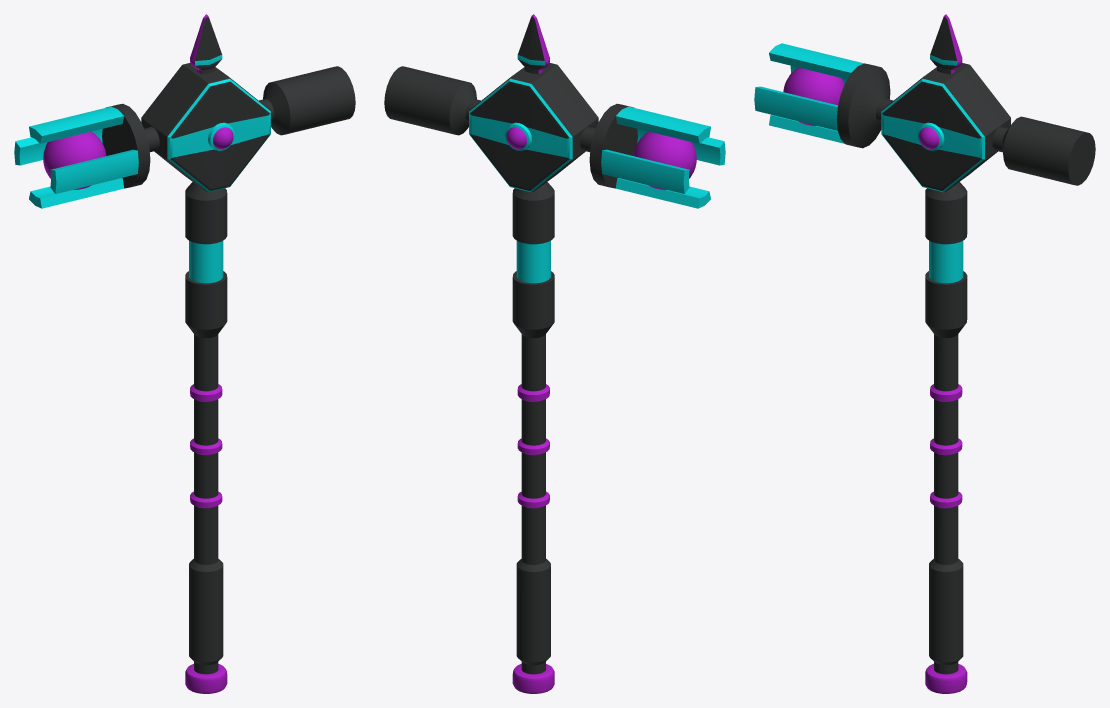
The model's file is weapon_fireHammer_model.fbx.
The picture shows the model from 3 angles, left to right: view 1: azimuth 30°, elevation 25°; view 2: azimuth 150°, elevation 25°; view 3: azimuth 330°, elevation 25°; orthographic projection.
Parts seen in each view (by area): view 1: Fire_Hamer; view 2: Fire_Hamer; view 3: Fire_Hamer.
Part boxes in pixels (x1=…): Fire_Hamer: x1=14, y1=14, x2=355, y2=693; Fire_Hamer: x1=384, y1=14, x2=725, y2=693; Fire_Hamer: x1=754, y1=14, x2=1095, y2=693.
Bounding box in the file's own units: 28.63 × 60.04 × 6.85.
